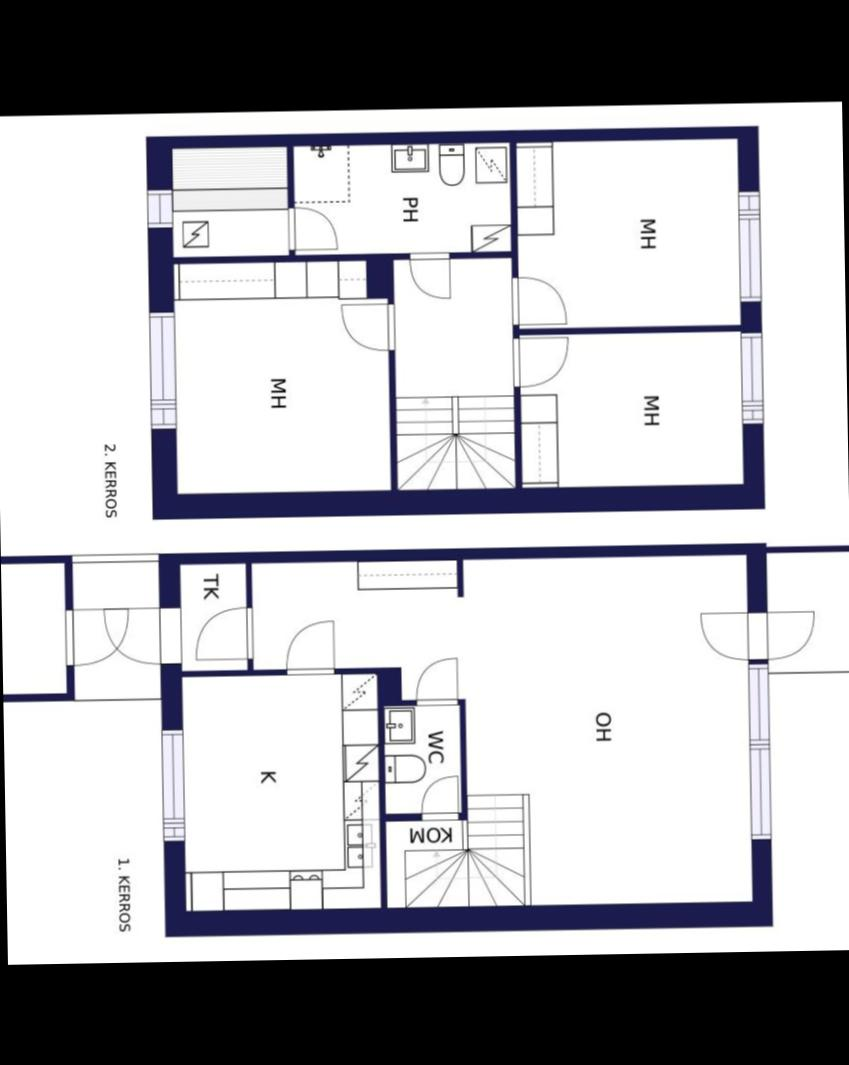door: (104, 602, 182, 667), (701, 604, 770, 668), (745, 608, 820, 664), (64, 602, 130, 664), (196, 605, 259, 667), (509, 332, 569, 392), (342, 296, 402, 352), (507, 274, 567, 330), (280, 618, 339, 674), (283, 204, 342, 256), (404, 246, 455, 303), (414, 652, 459, 714), (420, 771, 459, 824)
window: (729, 181, 768, 317), (144, 300, 182, 434), (156, 719, 191, 853), (734, 320, 768, 438), (744, 740, 776, 849), (744, 658, 776, 749), (142, 184, 178, 234)
